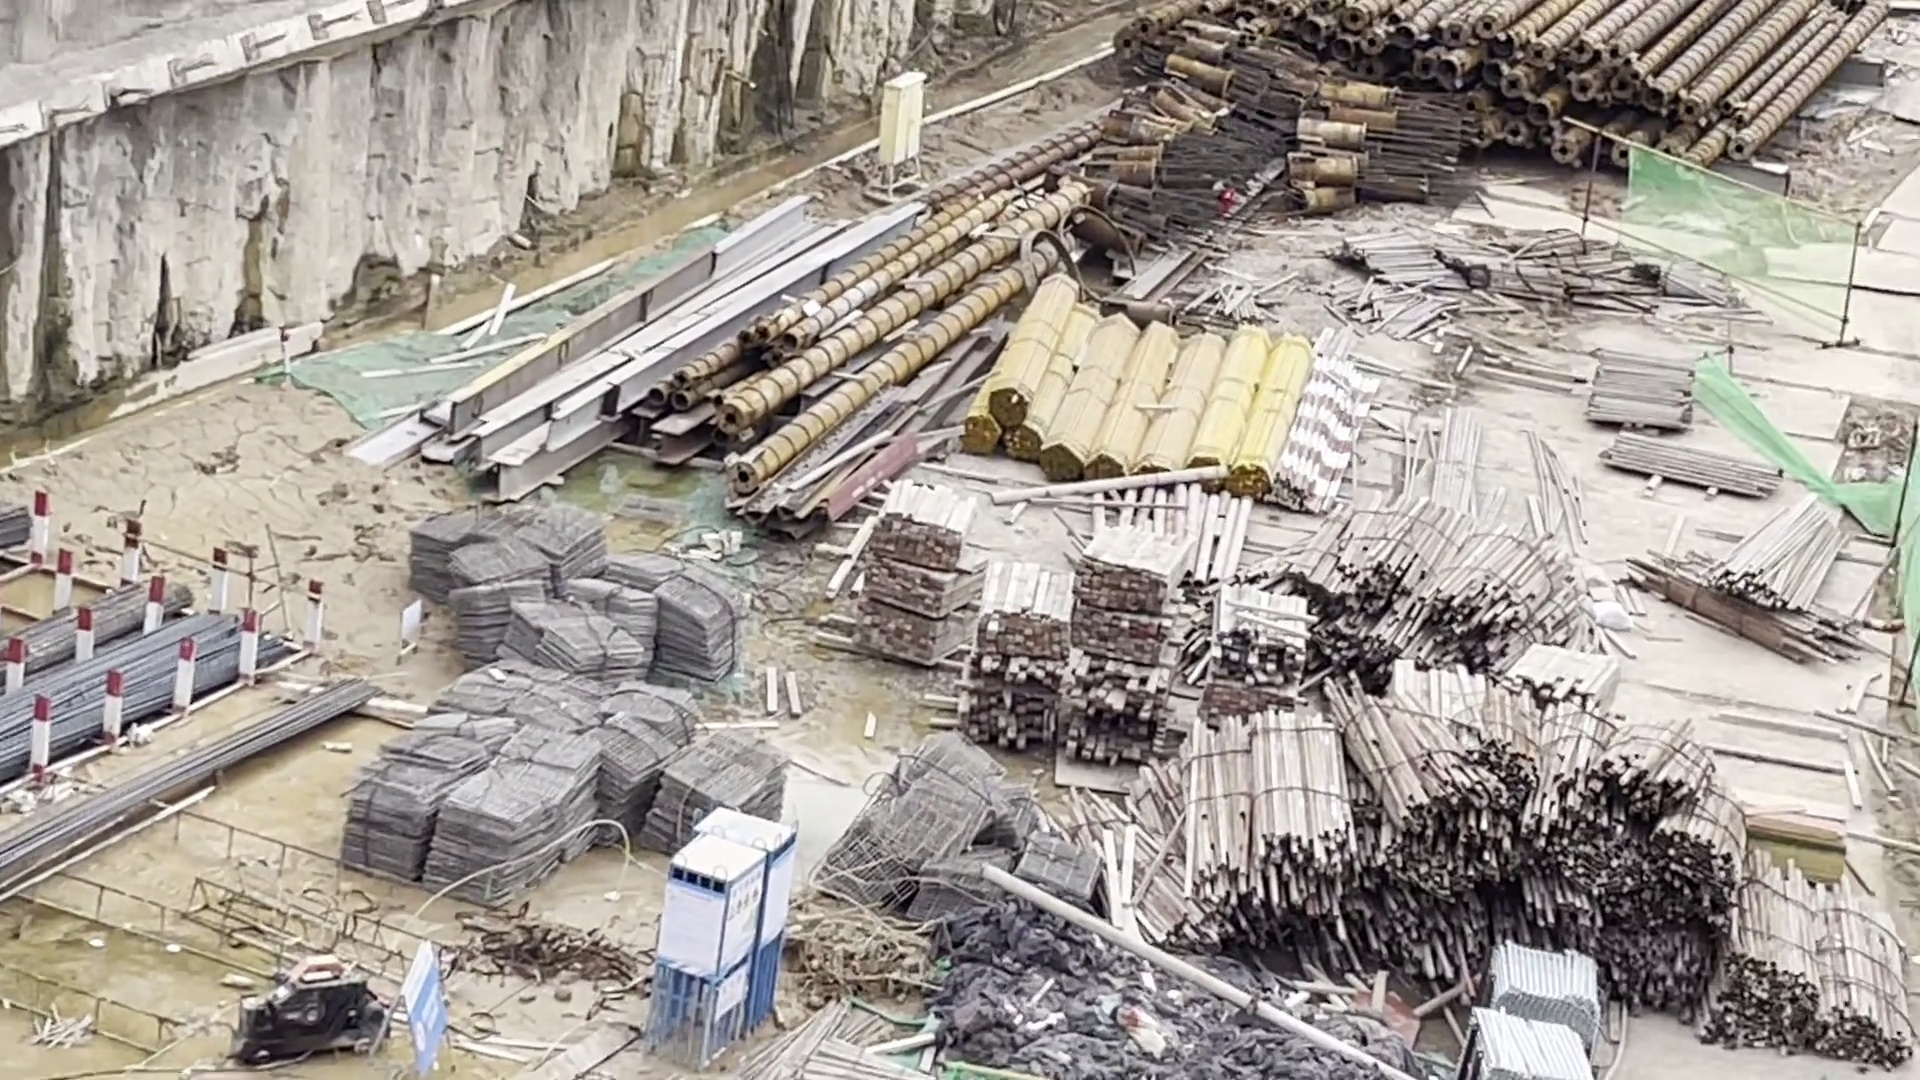scaffold: (1476, 935, 1598, 1080)
wood: (851, 469, 1309, 758)
